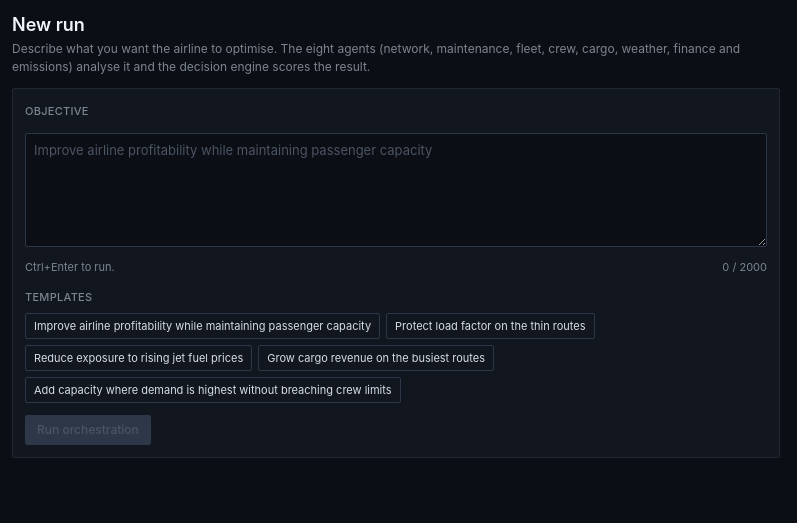
NewRunPage › shows the server's error and lets the user try again
Type "Grow cargo" into the text box labelled "Objective" at (396, 190), box [25,133,767,247]
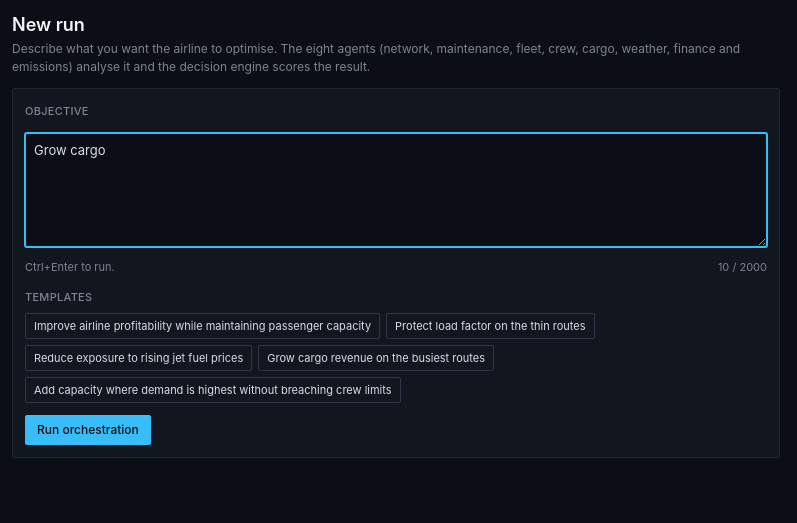
Click the button "Run orchestration" at (88, 430), box [25,415,151,445]
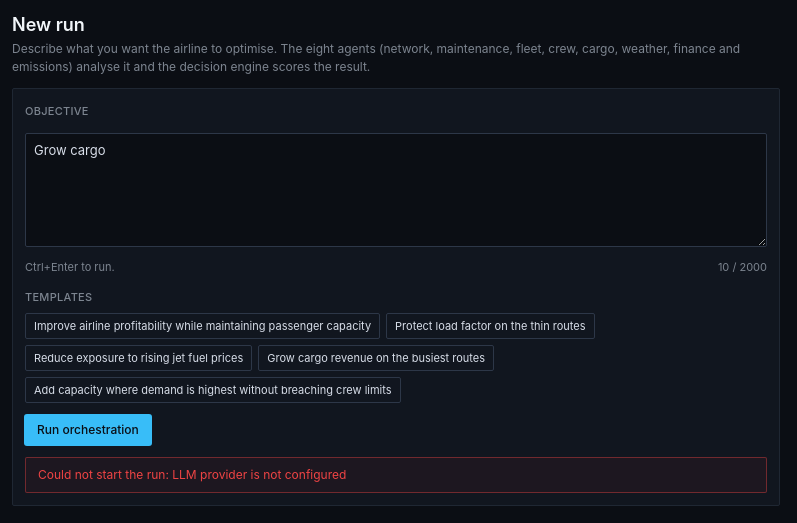
Check: the button "Run orchestration" is enabled, box [25,415,151,445]
Check: the message reads "Could not start the run: LLM provider is not configured", box [25,457,767,493]
